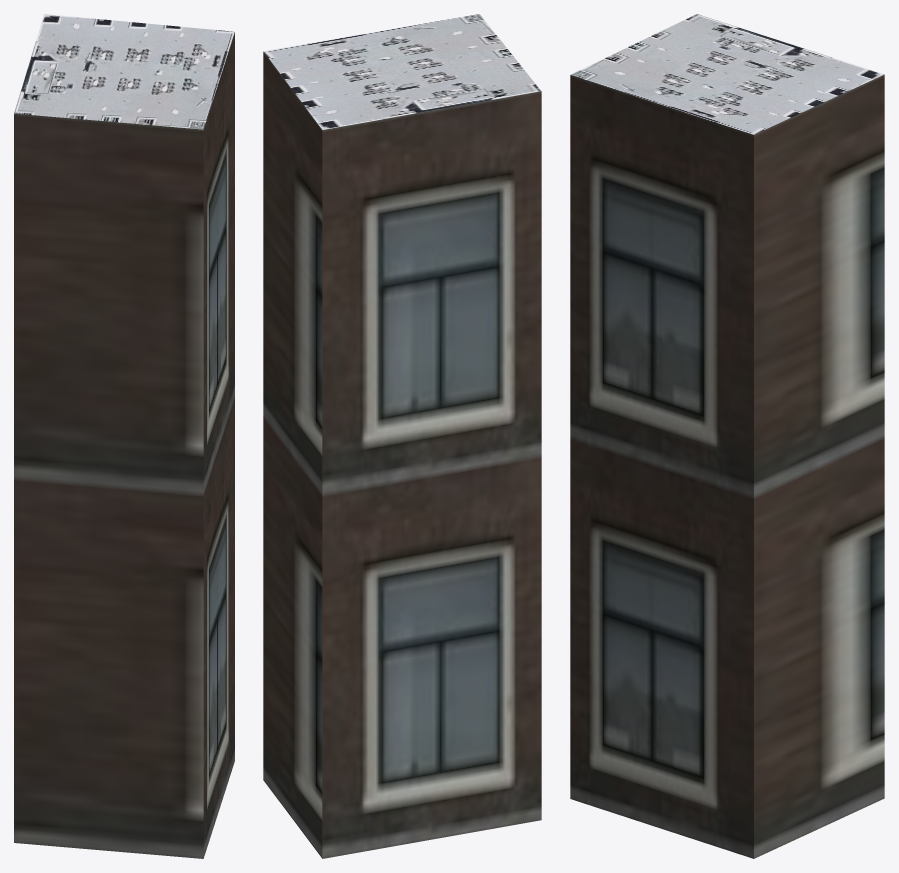
File: ResTex__1671.fbx
The picture shows the model from 3 angles, left to right: view 1: azimuth 30°, elevation 25°; view 2: azimuth 150°, elevation 25°; view 3: azimuth 270°, elevation 25°; orthographic projection.
Parts seen in each view (by area): view 1: CityEngineMaterial_16_m, CityEngineMaterial_15_m; view 2: CityEngineMaterial_16_m, CityEngineMaterial_15_m; view 3: CityEngineMaterial_16_m, CityEngineMaterial_15_m.
Part boxes in pixels (x1=…): CityEngineMaterial_16_m: x1=14, y1=32, x2=234, y2=858; CityEngineMaterial_15_m: x1=14, y1=14, x2=234, y2=129; CityEngineMaterial_16_m: x1=263, y1=51, x2=541, y2=858; CityEngineMaterial_15_m: x1=263, y1=14, x2=540, y2=129; CityEngineMaterial_16_m: x1=570, y1=74, x2=884, y2=858; CityEngineMaterial_15_m: x1=570, y1=14, x2=883, y2=134.
Bounding box in the file's own units: 2.15 × 6 × 2.36.
2 materials, 2 textured.
